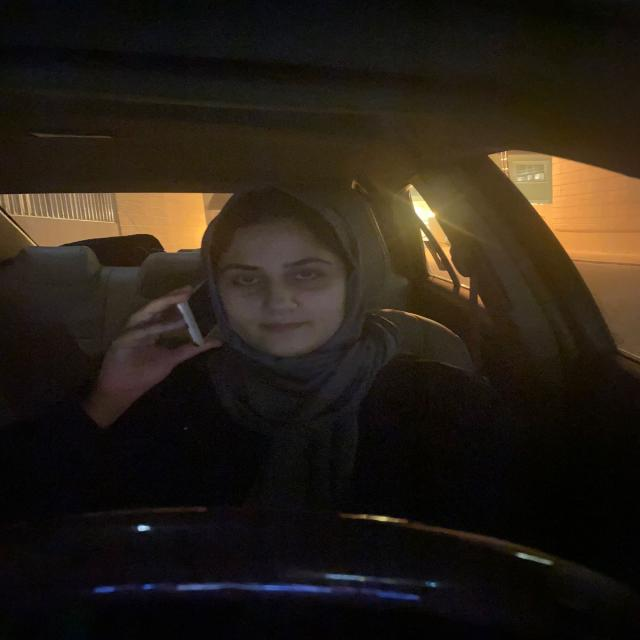phone: (172, 279, 228, 348)
